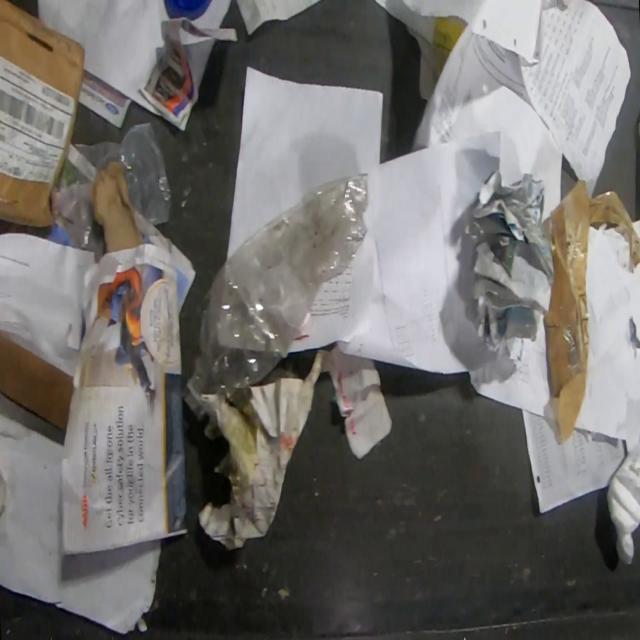cardboard: (0, 0, 86, 228), (0, 333, 75, 434), (92, 159, 144, 255)
rigid_plastic: (192, 174, 370, 406), (165, 0, 212, 21)
soft_plastic: (544, 177, 640, 446), (50, 122, 174, 264)
